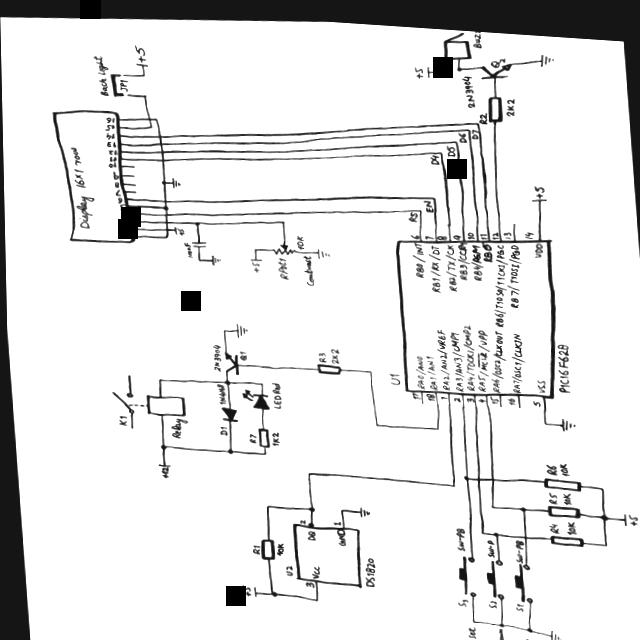capacitor: (190, 238, 206, 244)
crossover: (473, 469, 481, 475), (158, 146, 165, 152), (157, 138, 164, 144), (162, 209, 169, 214), (487, 469, 494, 474), (520, 527, 527, 532), (155, 132, 163, 136), (163, 225, 170, 229), (159, 155, 166, 159), (163, 217, 169, 221), (162, 196, 168, 200), (147, 114, 152, 118)
diode: (240, 385, 269, 405), (219, 403, 238, 419)
ground: (232, 319, 248, 335), (559, 409, 576, 424), (539, 46, 555, 59), (547, 622, 560, 635), (315, 244, 331, 254), (356, 501, 369, 513), (209, 251, 221, 263), (170, 174, 181, 186)
junction: (266, 586, 276, 593), (597, 505, 606, 512), (305, 501, 314, 508), (224, 445, 233, 451), (157, 441, 166, 447), (517, 499, 526, 505), (154, 374, 163, 380), (309, 592, 318, 598), (460, 468, 469, 474), (336, 503, 344, 509), (222, 376, 230, 382), (365, 363, 373, 369), (447, 60, 455, 66), (372, 416, 379, 422), (600, 533, 607, 539), (192, 217, 200, 222), (262, 500, 270, 505), (448, 476, 456, 481), (523, 620, 531, 625), (432, 419, 439, 424), (304, 467, 311, 472), (596, 478, 603, 483), (220, 325, 227, 330), (456, 60, 463, 65), (495, 615, 502, 620), (160, 177, 167, 182), (161, 203, 169, 207), (541, 413, 547, 418), (279, 215, 285, 220), (488, 497, 494, 502), (491, 524, 497, 529), (468, 612, 475, 616), (142, 91, 147, 96), (251, 244, 257, 248), (163, 232, 169, 236), (141, 71, 146, 75), (148, 122, 153, 126), (478, 524, 483, 528), (417, 202, 422, 206), (454, 133, 458, 137), (467, 121, 471, 125), (261, 447, 265, 451), (432, 190, 436, 194), (154, 115, 159, 118), (438, 145, 443, 148), (258, 378, 263, 381), (475, 115, 479, 118), (197, 255, 201, 258)
resistor: (540, 469, 581, 483), (486, 88, 504, 115), (545, 497, 579, 510), (547, 527, 583, 538), (257, 535, 274, 556), (271, 239, 295, 251), (315, 359, 340, 370), (256, 423, 269, 444)
switch: (453, 549, 475, 590), (482, 552, 503, 592), (511, 555, 531, 595), (109, 71, 130, 95)
terminal: (425, 59, 431, 71), (530, 190, 547, 194), (620, 504, 625, 517), (250, 581, 255, 593), (135, 60, 148, 64), (156, 461, 170, 464), (249, 254, 262, 257), (173, 223, 177, 232)
text: (69, 145, 96, 227), (485, 322, 508, 385), (492, 236, 508, 321), (506, 325, 527, 385), (472, 322, 492, 385), (447, 325, 466, 385), (505, 236, 522, 301), (460, 316, 476, 384), (434, 322, 450, 384), (425, 235, 444, 287), (554, 335, 570, 385), (443, 236, 459, 286), (92, 53, 110, 94), (409, 236, 426, 272), (456, 235, 471, 273), (469, 237, 484, 273), (461, 68, 477, 101), (300, 249, 316, 281), (412, 349, 427, 383), (423, 349, 437, 384), (360, 551, 375, 582), (168, 415, 188, 436), (268, 378, 281, 405), (210, 340, 222, 368), (275, 253, 289, 275), (452, 521, 465, 544), (214, 379, 226, 401), (511, 532, 522, 556), (480, 235, 493, 255), (503, 90, 516, 109), (492, 620, 505, 639), (134, 42, 147, 60), (333, 525, 346, 541), (472, 25, 484, 42), (484, 530, 494, 550), (532, 235, 544, 251), (489, 50, 506, 61), (533, 371, 546, 385), (182, 239, 193, 255), (532, 178, 546, 190), (557, 454, 569, 468), (328, 343, 339, 358), (564, 512, 575, 527), (308, 561, 320, 574), (386, 367, 399, 379), (545, 483, 557, 496), (544, 455, 556, 467), (464, 620, 475, 633), (118, 76, 129, 89), (413, 60, 424, 73), (273, 538, 283, 552), (295, 230, 304, 245), (406, 205, 418, 216), (457, 124, 468, 136), (422, 194, 433, 206), (560, 484, 571, 496), (239, 580, 249, 593), (453, 592, 467, 601), (269, 427, 278, 441), (445, 138, 456, 149), (547, 515, 558, 526), (116, 413, 127, 424), (428, 148, 440, 158), (250, 257, 260, 269), (478, 105, 488, 117), (282, 560, 292, 572), (626, 504, 636, 516), (304, 526, 314, 537), (520, 631, 532, 640), (316, 347, 326, 357), (485, 592, 495, 602), (409, 386, 420, 395), (159, 464, 168, 475), (470, 121, 479, 132), (512, 595, 523, 604), (522, 223, 534, 231), (488, 388, 498, 397), (237, 347, 246, 357), (247, 429, 256, 439), (249, 541, 259, 550), (218, 422, 226, 432), (505, 390, 515, 398), (105, 130, 115, 138), (104, 122, 115, 129), (502, 224, 511, 232), (424, 387, 434, 394), (176, 224, 184, 232), (531, 392, 540, 399), (466, 225, 475, 232), (111, 169, 118, 178), (330, 515, 340, 521), (407, 228, 419, 233), (106, 139, 116, 145), (105, 115, 115, 121), (303, 577, 313, 583), (491, 224, 498, 232), (119, 208, 126, 216), (436, 228, 447, 233), (451, 390, 460, 396), (476, 390, 485, 396), (464, 390, 473, 396), (478, 226, 487, 232), (108, 160, 117, 166), (108, 154, 117, 160), (108, 147, 117, 153), (451, 228, 461, 233), (118, 201, 125, 208), (114, 187, 121, 194), (113, 179, 120, 186), (422, 229, 434, 233), (121, 217, 128, 223), (116, 195, 123, 201), (297, 514, 304, 520), (121, 224, 128, 229), (438, 389, 446, 393), (123, 231, 128, 237)
transistor: (480, 55, 513, 72), (221, 348, 239, 371)
